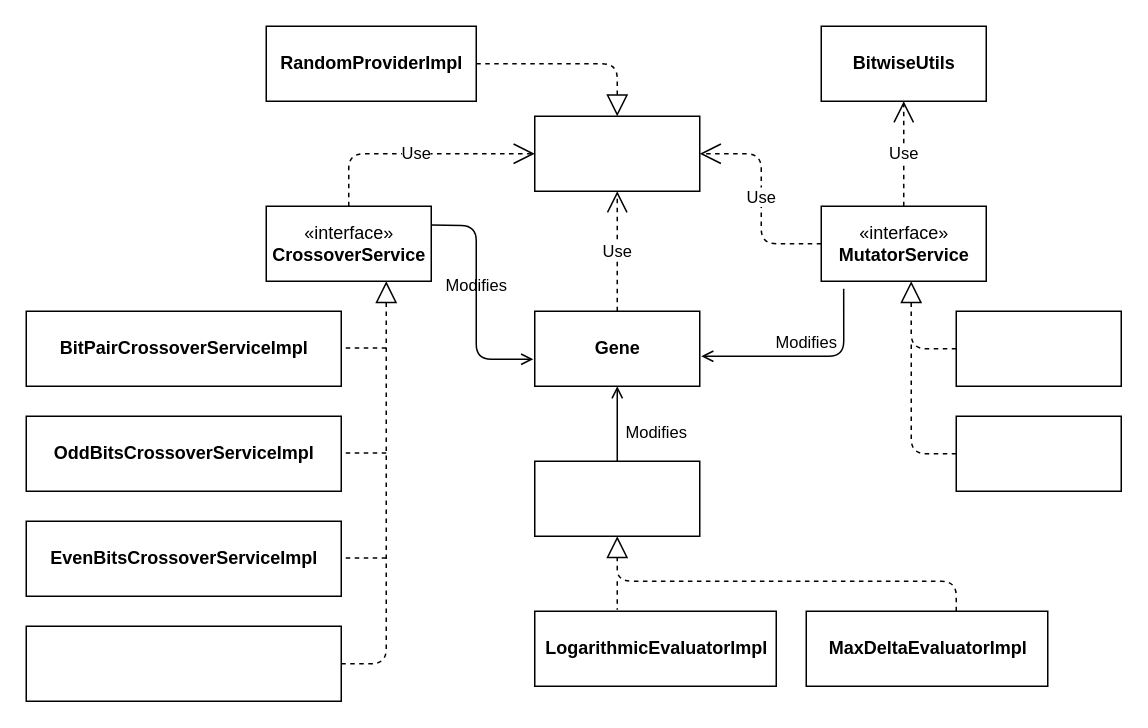
This 1148x728 diagram has some shape labels left out. The centre of each missing label's shape, as x and y in pixels:
"MixingHalvesCrossoverServiceImpl" goes at [183,663].
"MultipleMutator" goes at [1038,453].
"SingleMutator" goes at [1038,348].
"«interface» Evaluator" goes at [616,498].
"«interface» RandomProvider" goes at [616,153].
